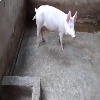heo: (32, 3, 81, 50)
